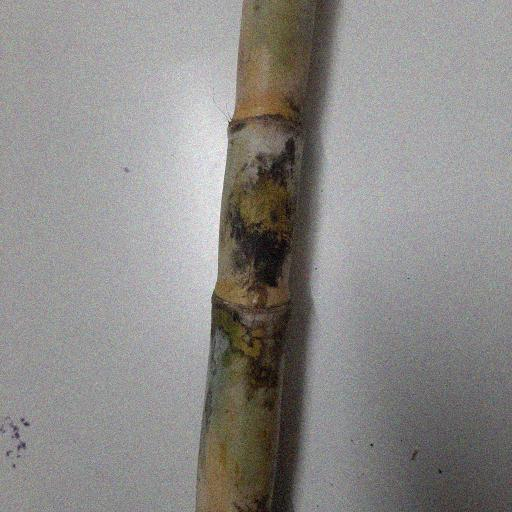Bud: (248, 285, 268, 310)
